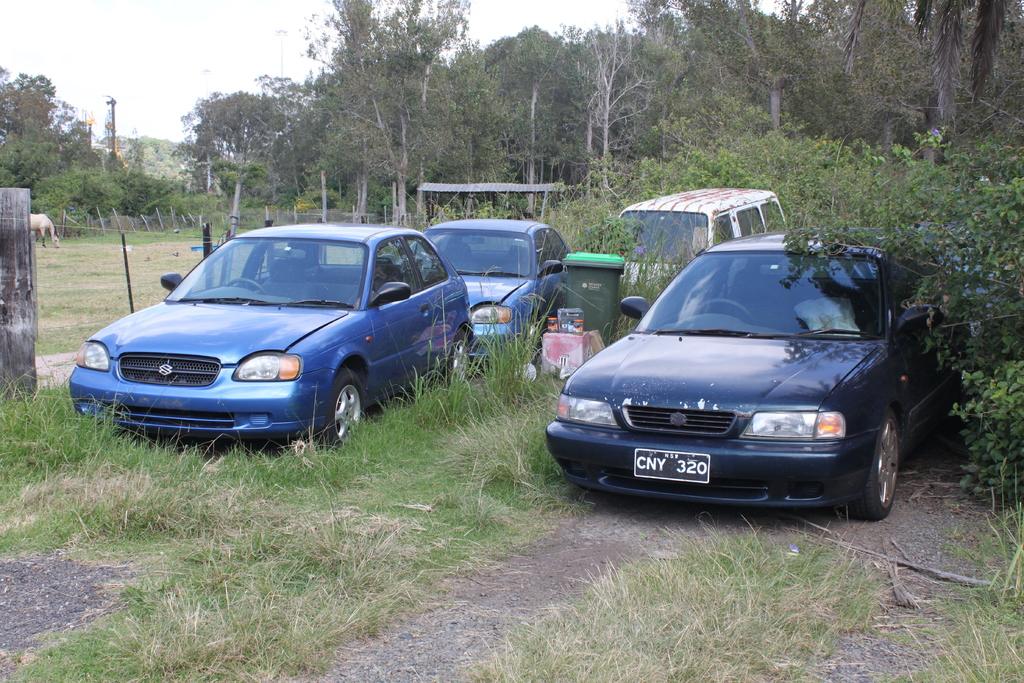Car: (541, 230, 981, 524), (65, 213, 496, 447), (402, 217, 563, 363)
